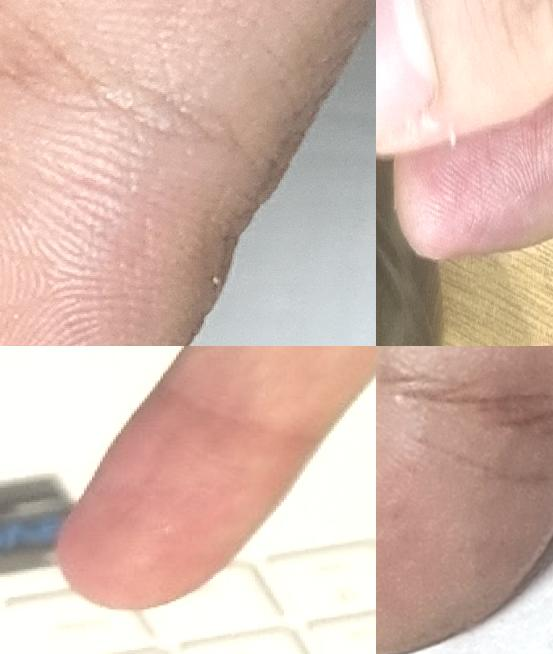Fingerprints: (0, 72, 223, 346), (54, 383, 319, 609), (376, 398, 553, 654), (394, 96, 553, 260)
